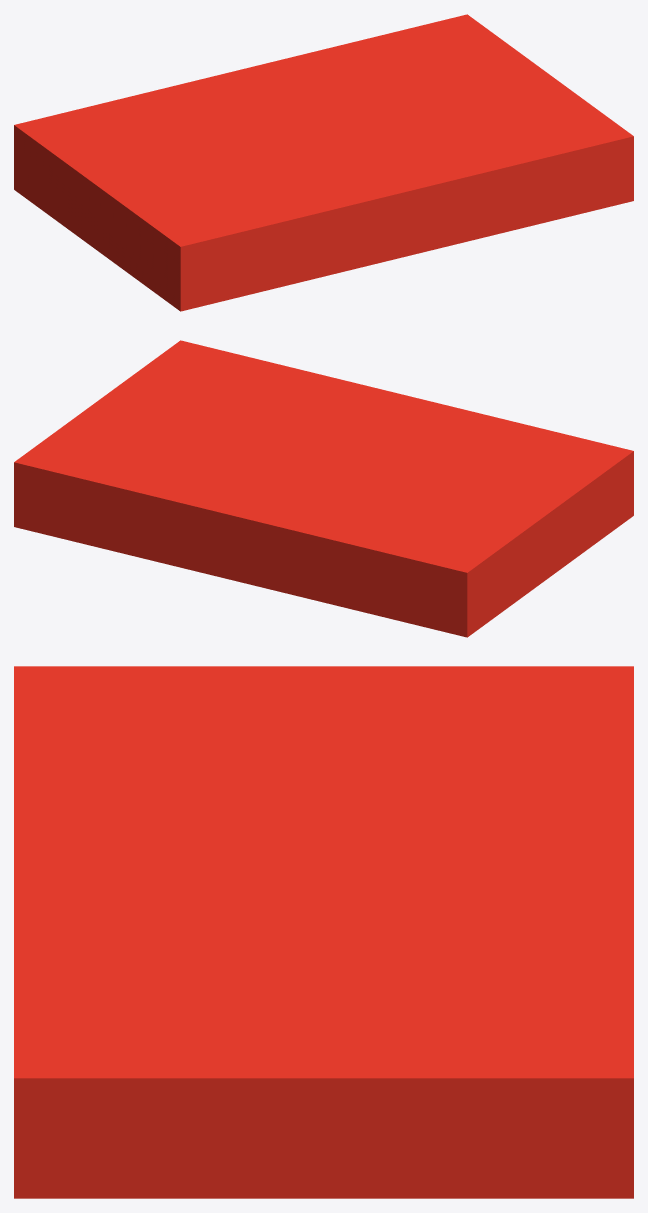
The model's file is prop_keycard_red_glow.glb.
3 renders of one model, top to bottom at view 1: azimuth 30°, elevation 25°; view 2: azimuth 150°, elevation 25°; view 3: azimuth 270°, elevation 25°, orthographic. The views are drawn at different scales.
Parts seen in each view (by area): view 1: prop_keycard_red_glow; view 2: prop_keycard_red_glow; view 3: prop_keycard_red_glow.
Boxes of the visible parts, x1,y1,x2,y2 form: prop_keycard_red_glow: [14, 14, 633, 311]; prop_keycard_red_glow: [14, 340, 633, 637]; prop_keycard_red_glow: [14, 666, 633, 1198].
Size of the model in its own units: 0.22 by 0.03 by 0.14.
1 material, 1 textured.
